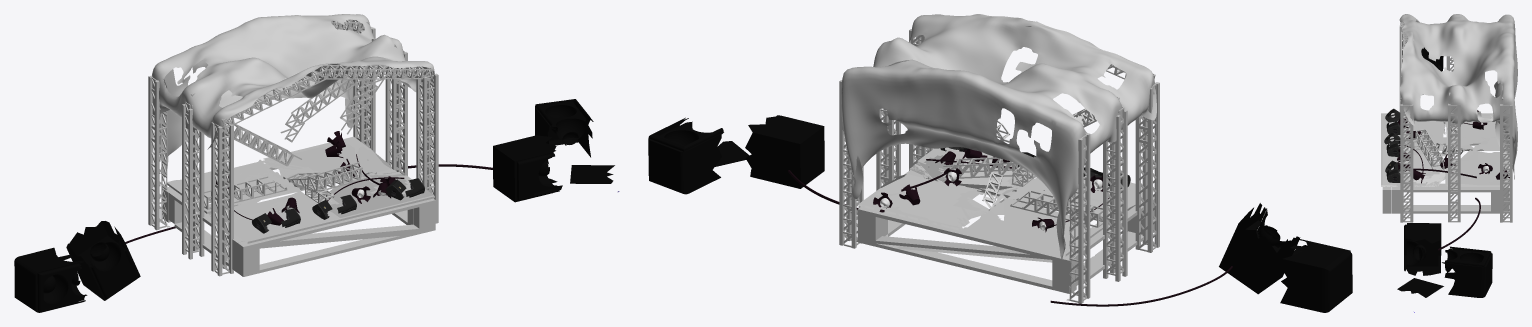
The model's file is PANGGUNV rusak.fbx.
3 views of the same model, side by side, from view 1: azimuth 30°, elevation 25°; view 2: azimuth 150°, elevation 25°; view 3: azimuth 270°, elevation 25° (orthographic). The views are drawn at different scales.
Visible parts, largest first — view 1: Cube.467, Plane, Cube, Sphere.001, Sphere.002, Sphere.004, Sphere.006, Sphere.005; view 2: Plane, Cube.467, Cube, Sphere.004, Sphere.006, Sphere.002, Sphere.001, Sphere.005, NurbsPath; view 3: Plane, Cube.467, Cube, Sphere.006, Sphere.004, Sphere.005, NurbsPath.001, monitor_speaker_lp.003, monitor_speaker_lp.004, monitor_speaker_lp.005, monitor_speaker_lp.006, monitor_speaker_lp.001 (+4 smaller).
Part boxes in pixels (left/top/right/bottom): Cube.467: left=148, top=19, right=438, bottom=276; Plane: left=152, top=14, right=434, bottom=180; Cube: left=167, top=136, right=434, bottom=243; Sphere.001: left=66, top=221, right=140, bottom=300; Sphere.002: left=14, top=247, right=87, bottom=312; Sphere.004: left=493, top=135, right=562, bottom=202; Sphere.006: left=535, top=99, right=593, bottom=164; Sphere.005: left=570, top=165, right=619, bottom=191; Plane: left=841, top=14, right=1156, bottom=259; Cube.467: left=839, top=21, right=1159, bottom=303; Cube: left=858, top=147, right=1154, bottom=256; Sphere.004: left=745, top=115, right=824, bottom=188; Sphere.006: left=648, top=117, right=723, bottom=194; Sphere.002: left=1280, top=238, right=1352, bottom=312; Sphere.001: left=1219, top=203, right=1300, bottom=294; Sphere.005: left=715, top=141, right=749, bottom=166; NurbsPath: left=1050, top=266, right=1232, bottom=306; Plane: left=1399, top=14, right=1517, bottom=179; Cube.467: left=1382, top=22, right=1512, bottom=222; Cube: left=1381, top=113, right=1509, bottom=186; Sphere.006: left=1442, top=246, right=1492, bottom=297; Sphere.004: left=1404, top=223, right=1441, bottom=275; Sphere.005: left=1397, top=278, right=1443, bottom=312; NurbsPath.001: left=1438, top=197, right=1480, bottom=250; monitor_speaker_lp.003: left=1386, top=169, right=1400, bottom=182; monitor_speaker_lp.004: left=1386, top=143, right=1400, bottom=156; monitor_speaker_lp.005: left=1386, top=121, right=1400, bottom=134; monitor_speaker_lp.006: left=1384, top=132, right=1400, bottom=145; monitor_speaker_lp.001: left=1385, top=108, right=1400, bottom=122.
Bounding box in the file's own units: 113496 × 37235 × 28752.
